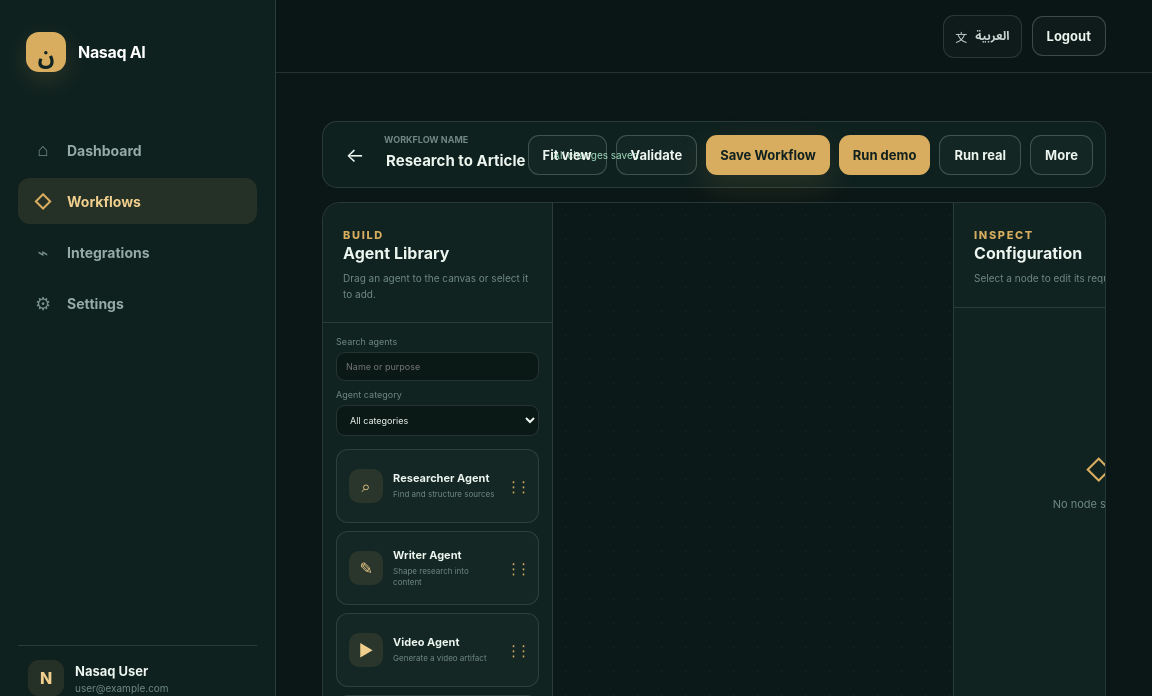
Test: Nasaq application shell and persisted workflow editor › shows published resource details and simulated email delivery outputs
Click the button "Run demo".
click(885, 154)  # box [839,134,930,174]
(page scrolled)
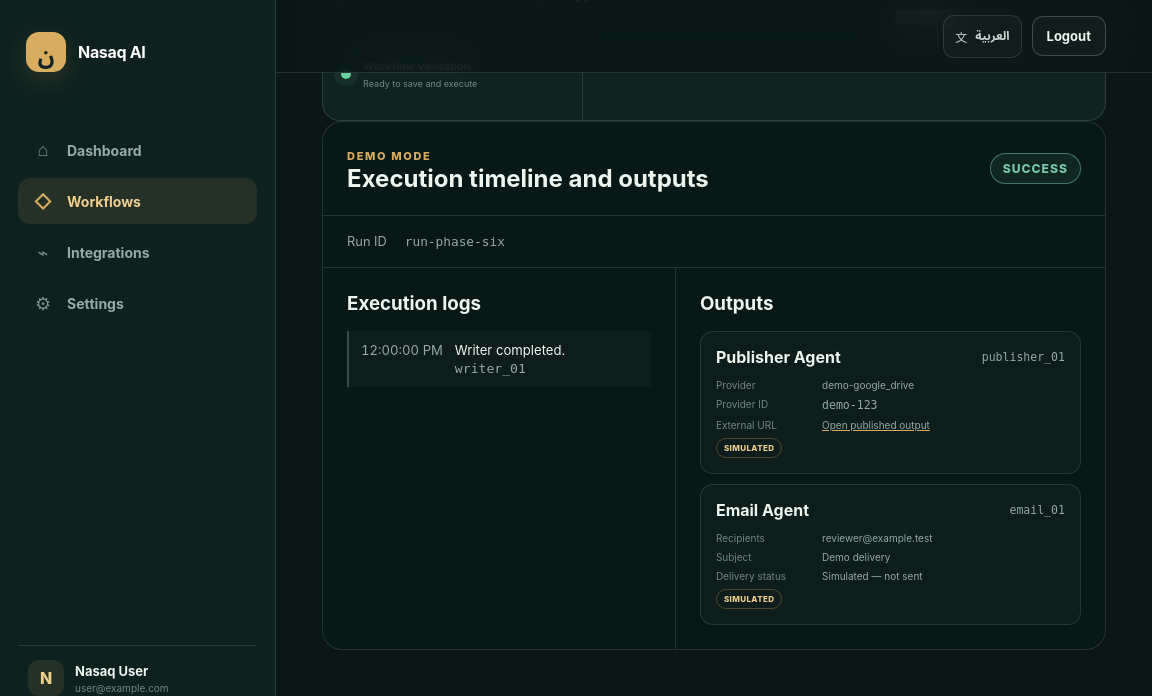
Expected: the text "demo-google_drive" is shown, [822,379,914,391]
Expected: the text "demo-123" is shown, [822,398,878,412]
Expected: the text "reviewer@example.test" is shown, [822,532,932,544]
